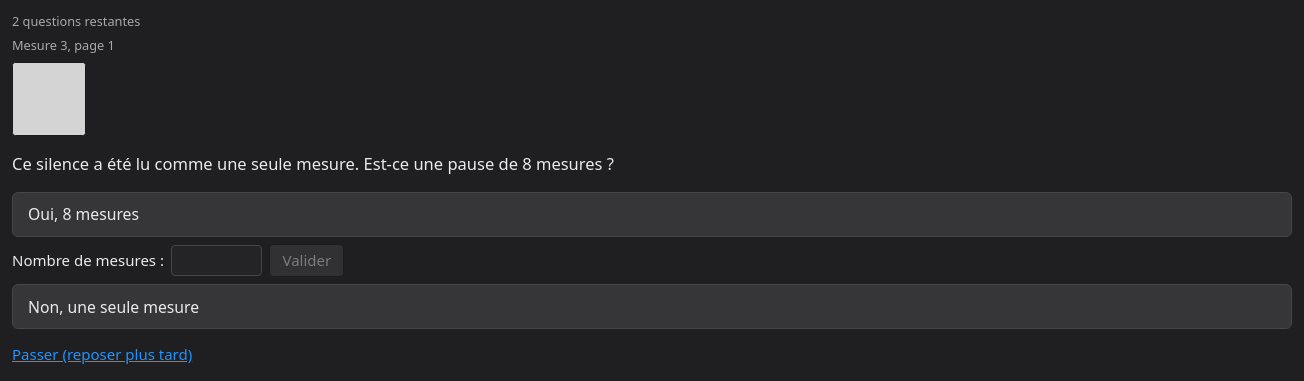
Test: QuestionPanel › envoie la réponse cliquée et affiche les questions suivantes
This screenshot has width=1304, height=381.
Click the button "Oui, 8 mesures": (84, 214) [12,192,1292,237]
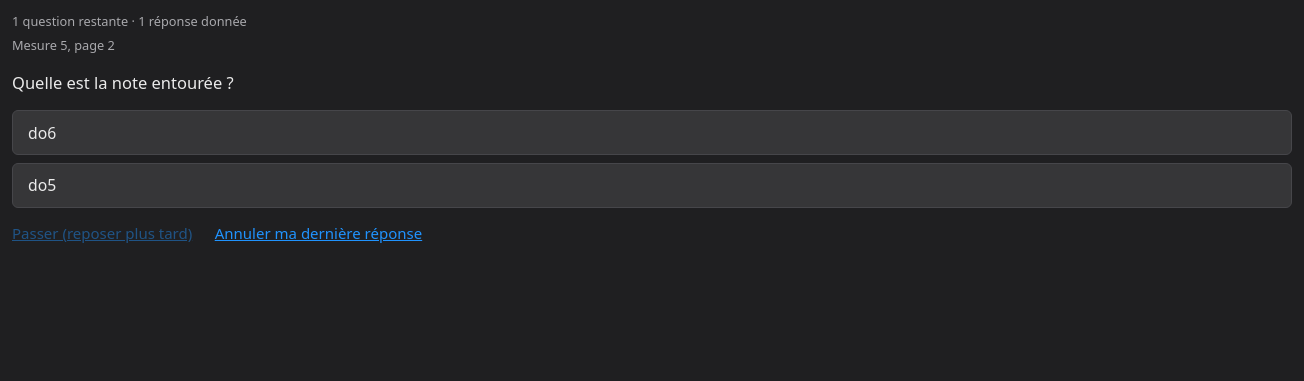
Result: the text "Quelle est la note entourée ?" is shown at [12,70,234,94]
Result: the button "do6" is shown at [12,110,1292,155]
Result: the text "1 question restante · 1 réponse donnée" is shown at [12,12,247,30]
